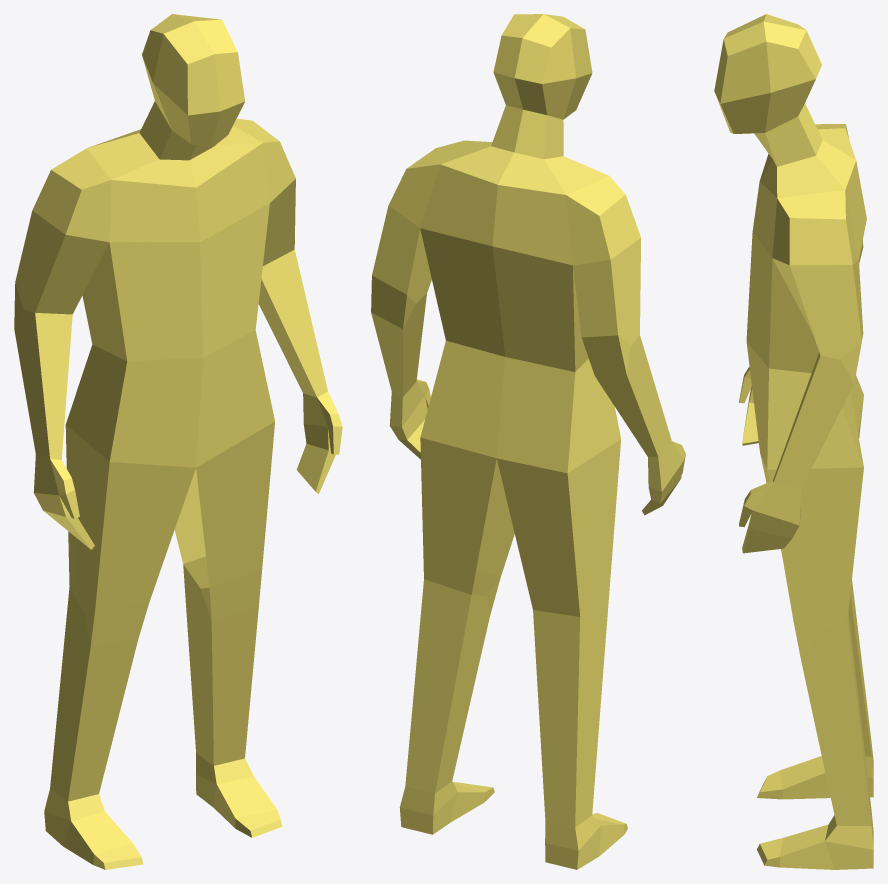
File: GGJ2025_Humano_Amarillo.fbx
The picture shows the model from 3 angles, left to right: view 1: azimuth 30°, elevation 25°; view 2: azimuth 150°, elevation 25°; view 3: azimuth 270°, elevation 25°; orthographic projection. The views are drawn at different scales.
Parts seen in each view (by area): view 1: Human.001; view 2: Human.001; view 3: Human.001.
Part boxes in pixels (<box>): Human.001: <box>14,14,342,869</box>; Human.001: <box>371,14,685,869</box>; Human.001: <box>714,14,873,869</box>.
Bounding box in the file's own units: 101 × 282 × 50.76.
